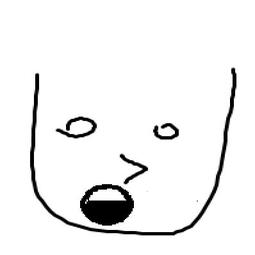empty_eye: (51, 110, 97, 145), (150, 119, 181, 142)
open_mouth: (78, 183, 135, 227)
pointy_nose: (120, 150, 151, 186)
